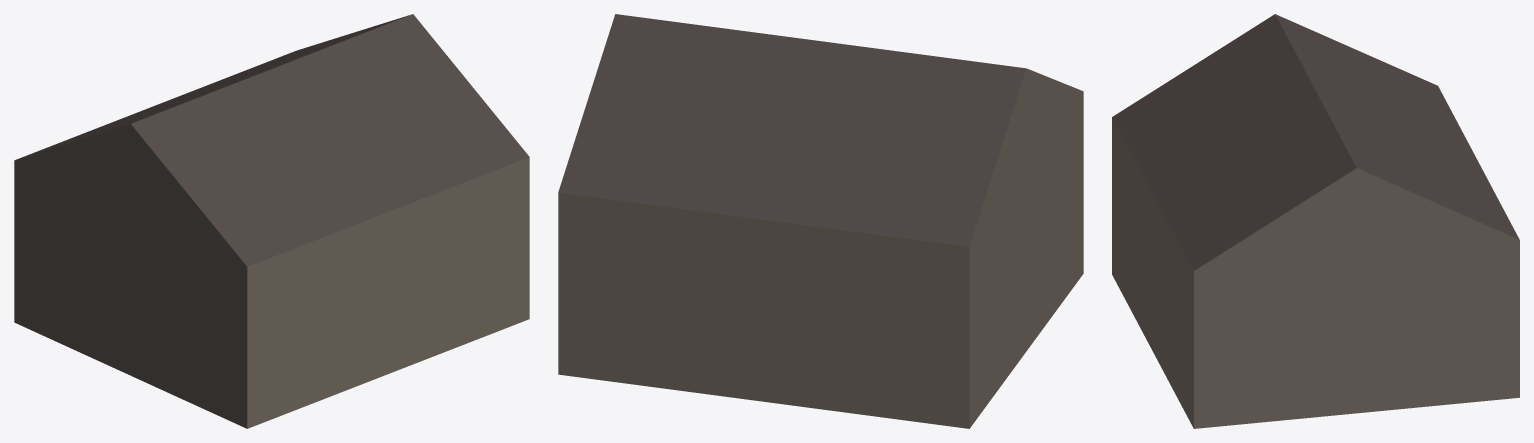
3 views of the same model, side by side, from view 1: azimuth 30°, elevation 25°; view 2: azimuth 150°, elevation 25°; view 3: azimuth 270°, elevation 25° (orthographic). The views are drawn at different scales.
Parts seen in each view (by area): view 1: HP-w1200743812; view 2: HP-w1200743812; view 3: HP-w1200743812.
Part boxes in pixels (x1,y1,x2,y2): HP-w1200743812: [14, 14, 529, 428]; HP-w1200743812: [558, 14, 1083, 428]; HP-w1200743812: [1112, 14, 1519, 428].
Bounding box in the file's own units: 15.11 × 9.32 × 14.05.
